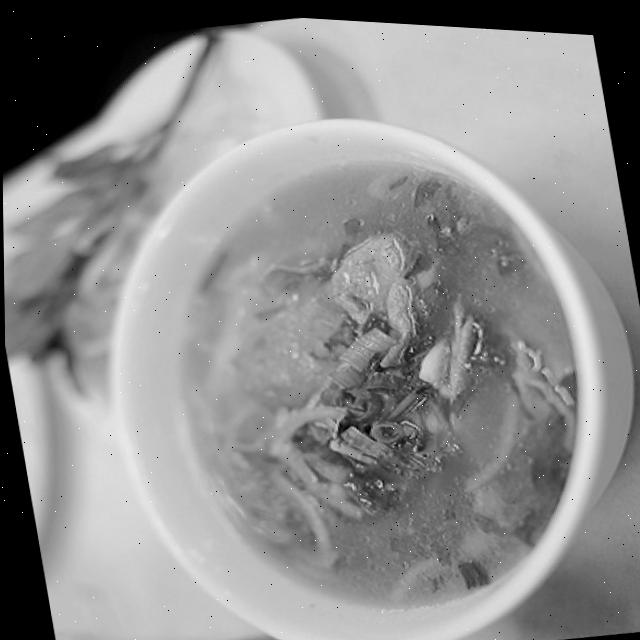面条主食: (138, 118, 609, 634)
